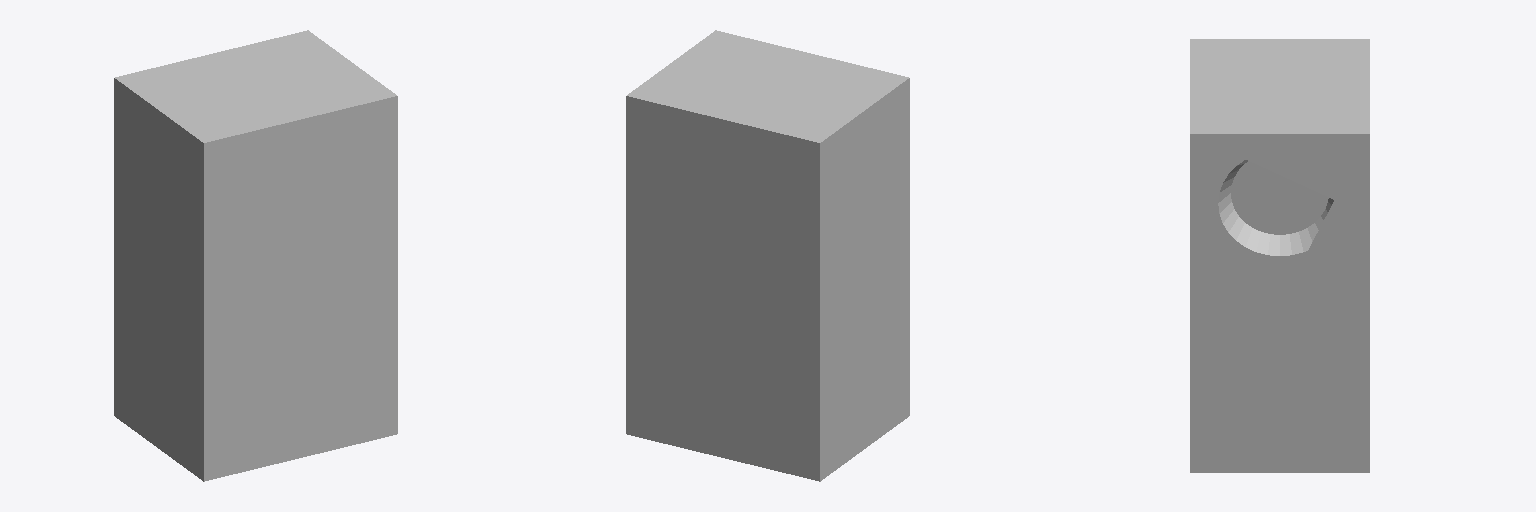
File: speaker.obj
3 renders of one model, left to right at view 1: azimuth 30°, elevation 25°; view 2: azimuth 150°, elevation 25°; view 3: azimuth 270°, elevation 25°, orthographic.
Visible parts, largest first — view 1: Cube; view 2: Cube; view 3: Cube, Cone.
Boxes of the visible parts, <box> form: Cube: <box>114,30,397,481</box>; Cube: <box>626,30,909,481</box>; Cube: <box>1190,39,1369,472</box>; Cone: <box>1231,161,1328,234</box>.
Size of the model in its own units: 0.6 by 1 by 0.48.